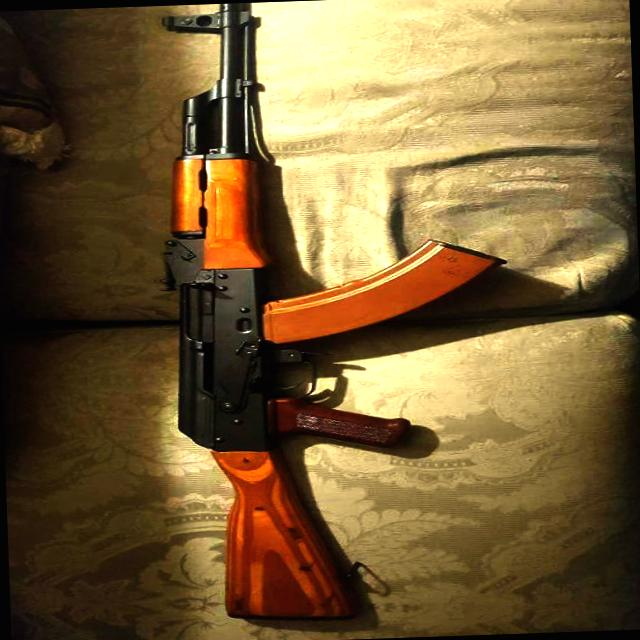ak: (121, 0, 528, 638)
